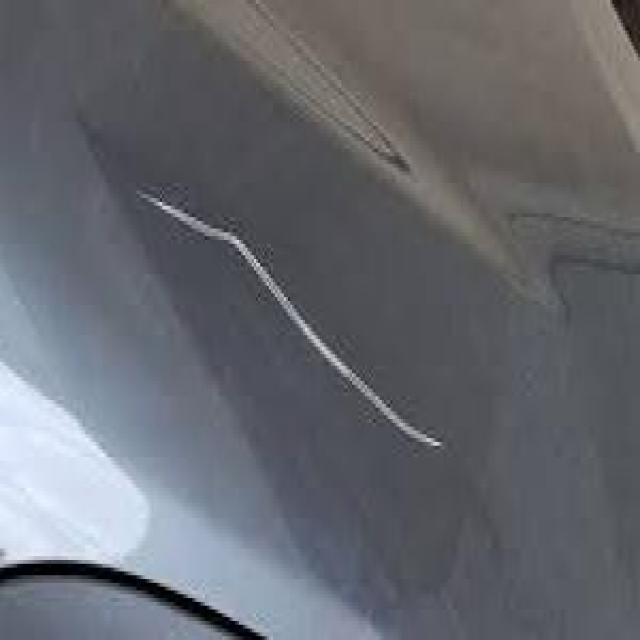scratch: (122, 162, 454, 474)
